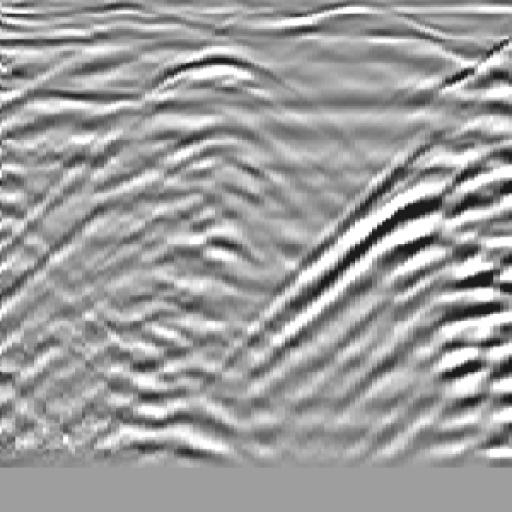metalic: (1, 31, 444, 356)
